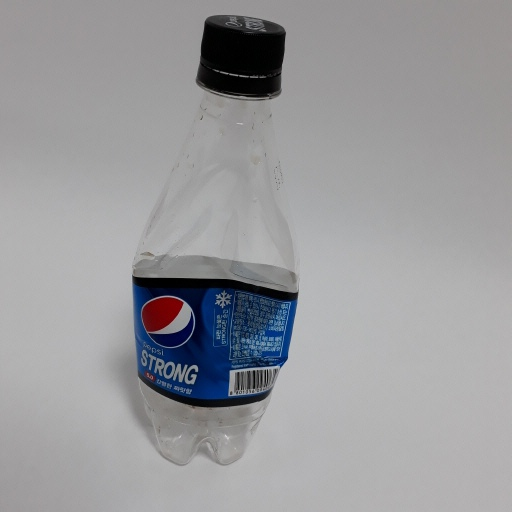Plastic_0: (131, 12, 304, 473)
